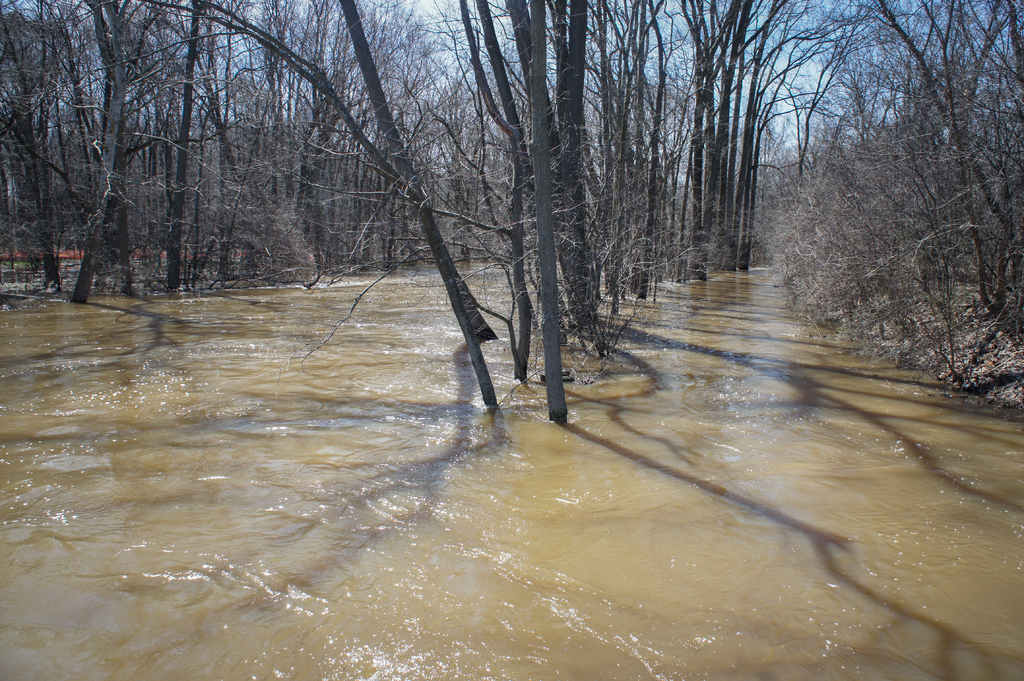Tree: (243, 0, 700, 427), (714, 0, 1023, 406), (188, 0, 437, 280), (583, 0, 808, 298), (0, 0, 216, 298)
